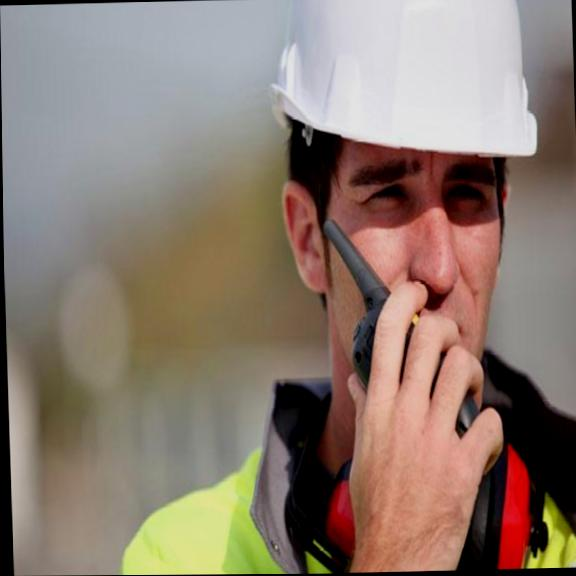safety_vest: (122, 479, 576, 575)
